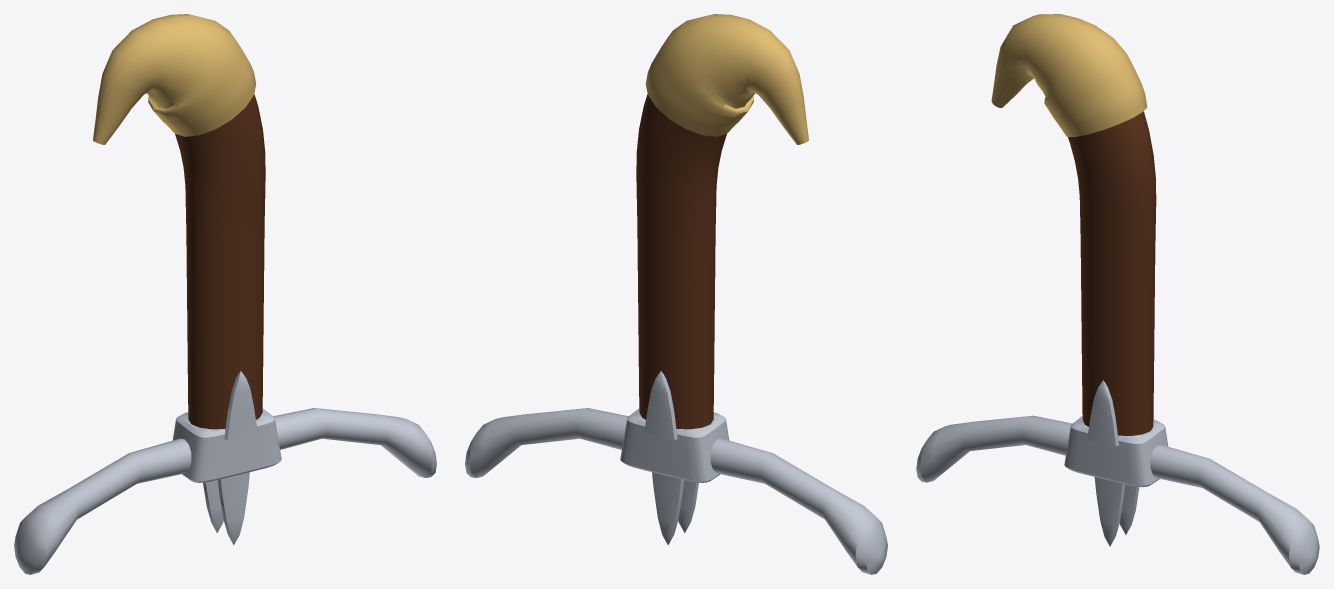
Rendered from ScimitarHiltGame.fbx.
3 views of the same model, side by side, from view 1: azimuth 30°, elevation 25°; view 2: azimuth 150°, elevation 25°; view 3: azimuth 330°, elevation 25° (orthographic). The views are drawn at different scales.
Visible parts, largest first — view 1: Grip, Guard, Pommel; view 2: Grip, Guard, Pommel; view 3: Grip, Guard, Pommel.
Part boxes in pixels (x1=…): Grip: x1=175, y1=94, x2=265, y2=429; Guard: x1=14, y1=371, x2=436, y2=574; Pommel: x1=93, y1=14, x2=256, y2=144; Grip: x1=636, y1=94, x2=726, y2=429; Guard: x1=465, y1=371, x2=887, y2=574; Pommel: x1=645, y1=14, x2=808, y2=144; Grip: x1=1068, y1=111, x2=1156, y2=435; Guard: x1=916, y1=380, x2=1319, y2=574; Pommel: x1=991, y1=14, x2=1147, y2=137.
Bounding box in the file's own units: 0.8 × 0.9941 × 0.146.
